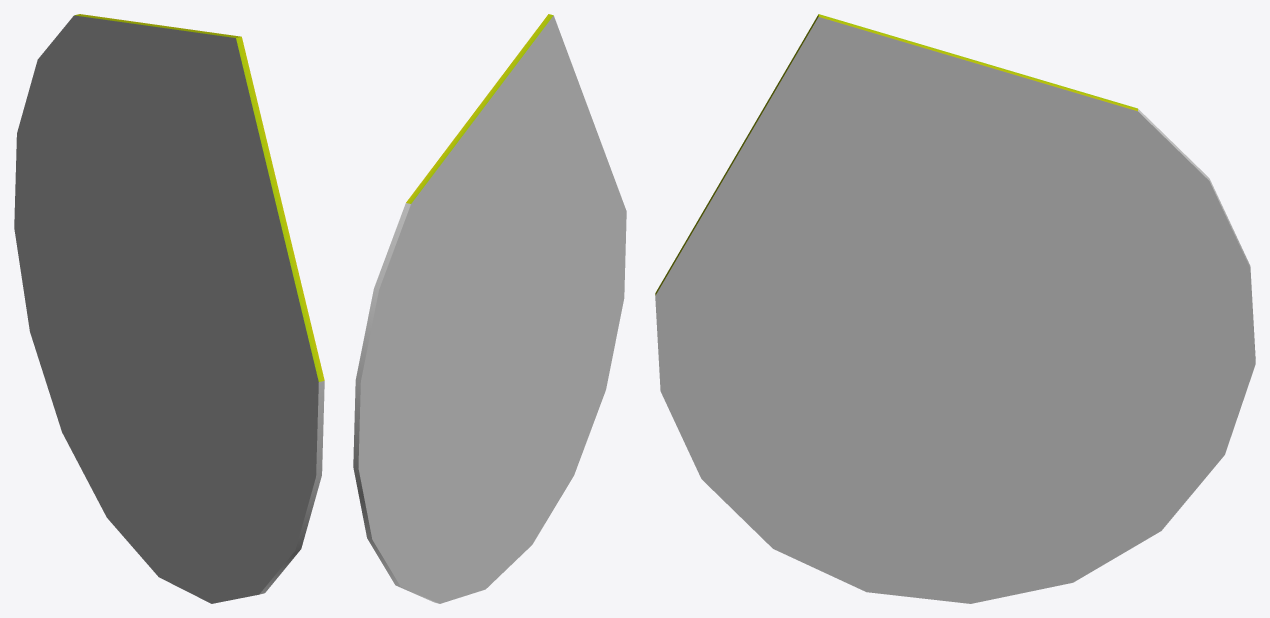
File: teardrop.FBX
3 renders of one model, left to right at view 1: azimuth 30°, elevation 25°; view 2: azimuth 150°, elevation 25°; view 3: azimuth 270°, elevation 25°, orthographic. The views are drawn at different scales.
Parts seen in each view (by area): view 1: Teardrop; view 2: Teardrop; view 3: Teardrop.
Part boxes in pixels (x1,y1,x2,y2): Teardrop: (14,14,324,603); Teardrop: (353,14,626,603); Teardrop: (655,14,1255,603).
Bounding box in the file's own units: 0.1483 × 14.28 × 13.24.
